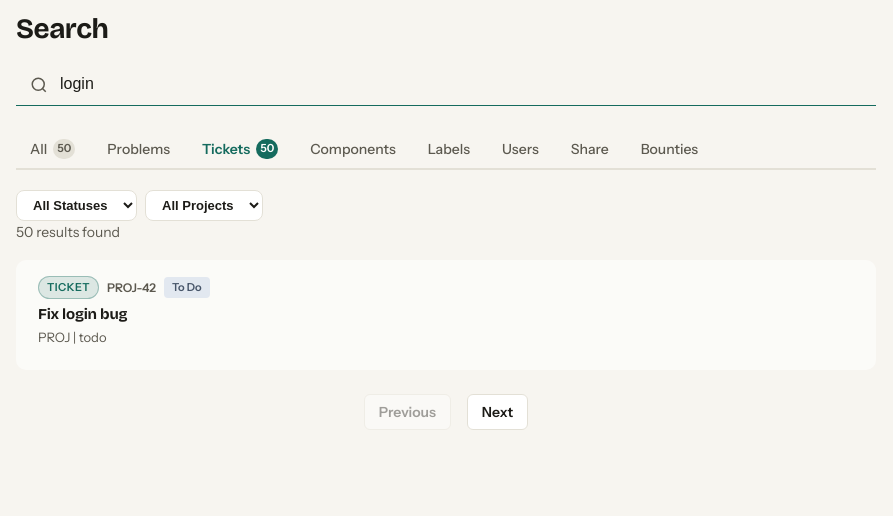
Test: Search (WP57) — tabbed search page › WP08: Prev is disabled on first page and enabled after Next
Expected: the button with aria-label "previous page" is disabled, left=364, top=394, right=451, bottom=430
Click the button with aria-label "next page" at (498, 412), box left=467, top=394, right=528, bottom=430
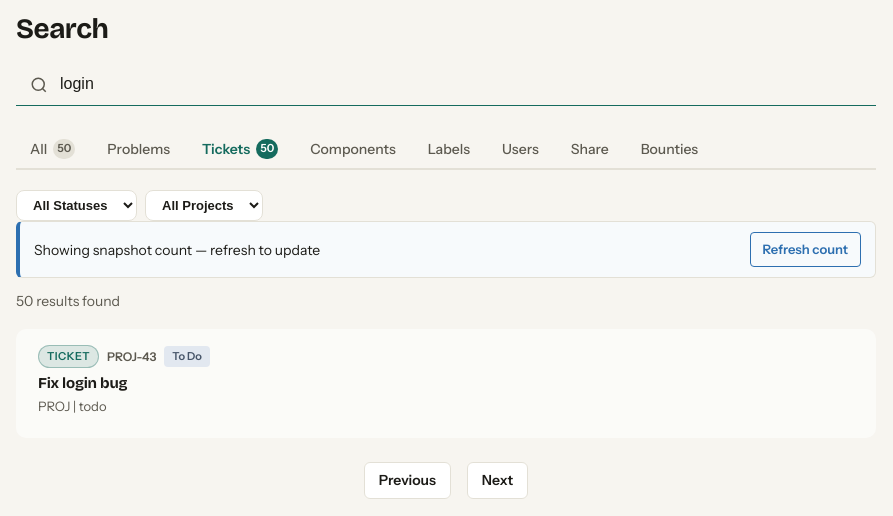
Result: the button with aria-label "previous page" is enabled at left=364, top=462, right=451, bottom=499
